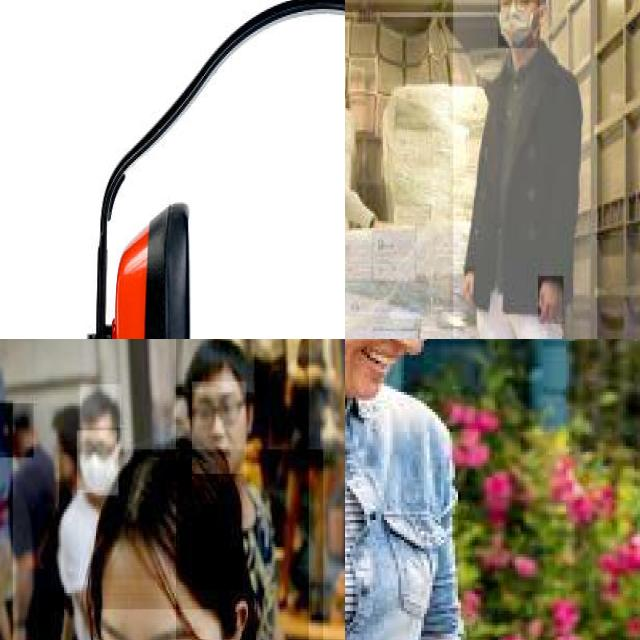Ear-protection: (46, 0, 345, 339)
face_mask: (77, 430, 118, 496), (498, 0, 541, 50)
face_nomask: (192, 382, 246, 474)
hand_noglove: (538, 276, 565, 326), (460, 266, 477, 305)
head_nohelmet: (97, 452, 230, 582), (182, 339, 254, 391), (80, 384, 123, 430), (0, 403, 33, 457)
person: (59, 449, 324, 640), (453, 0, 598, 339), (175, 339, 310, 640), (0, 381, 79, 640)
